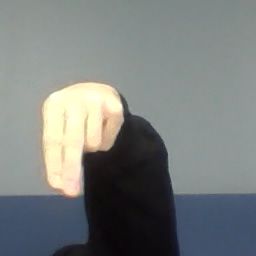N: (40, 82, 126, 198)
